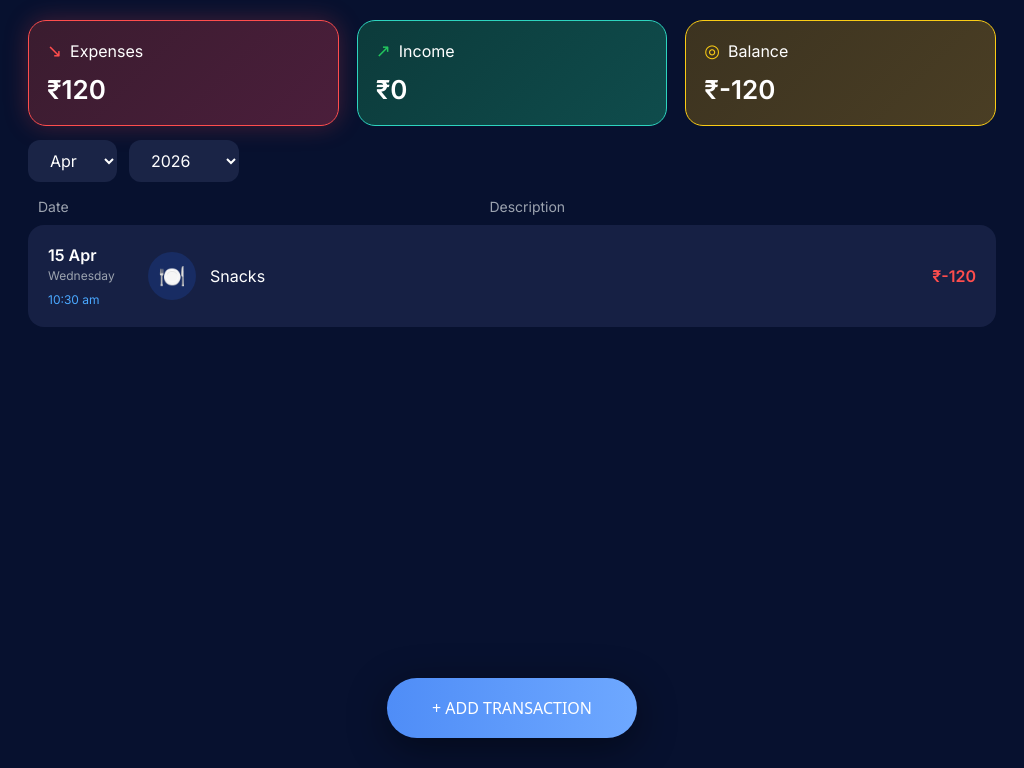
it: Records transaction flow › opens the delete confirmation and removes a transaction when confirmed
Expected: the text "Snacks" is shown, [210, 264, 265, 288]
Click the text "Snacks" at (512, 276), box [28, 225, 996, 327]
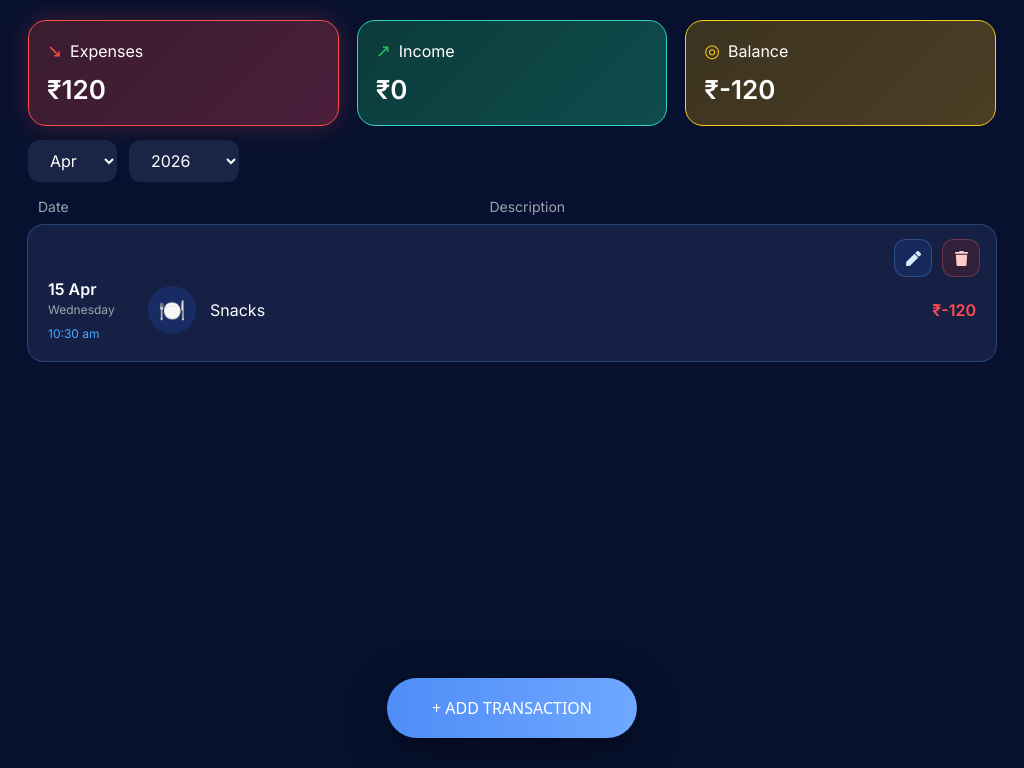
Click the button titled "Delete" at (961, 258), box [942, 239, 980, 277]
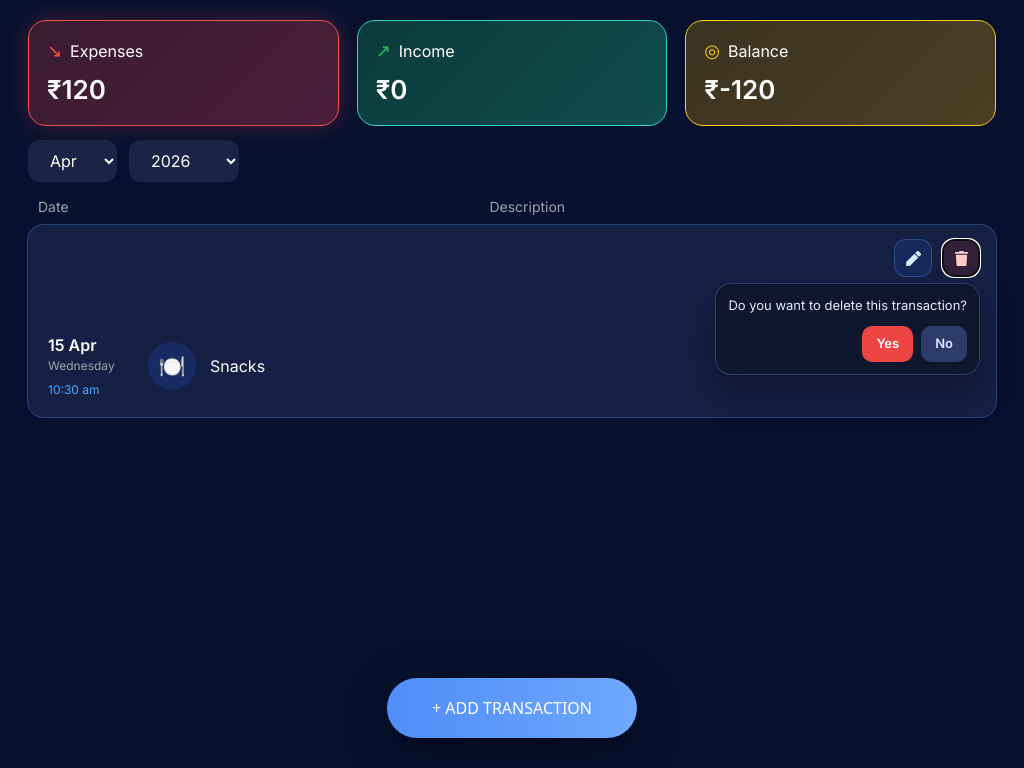
Now the text "Do you want to delete this transaction?" is shown, box [728, 296, 967, 314]
Click the button "Yes" at (888, 344), box [862, 326, 913, 362]
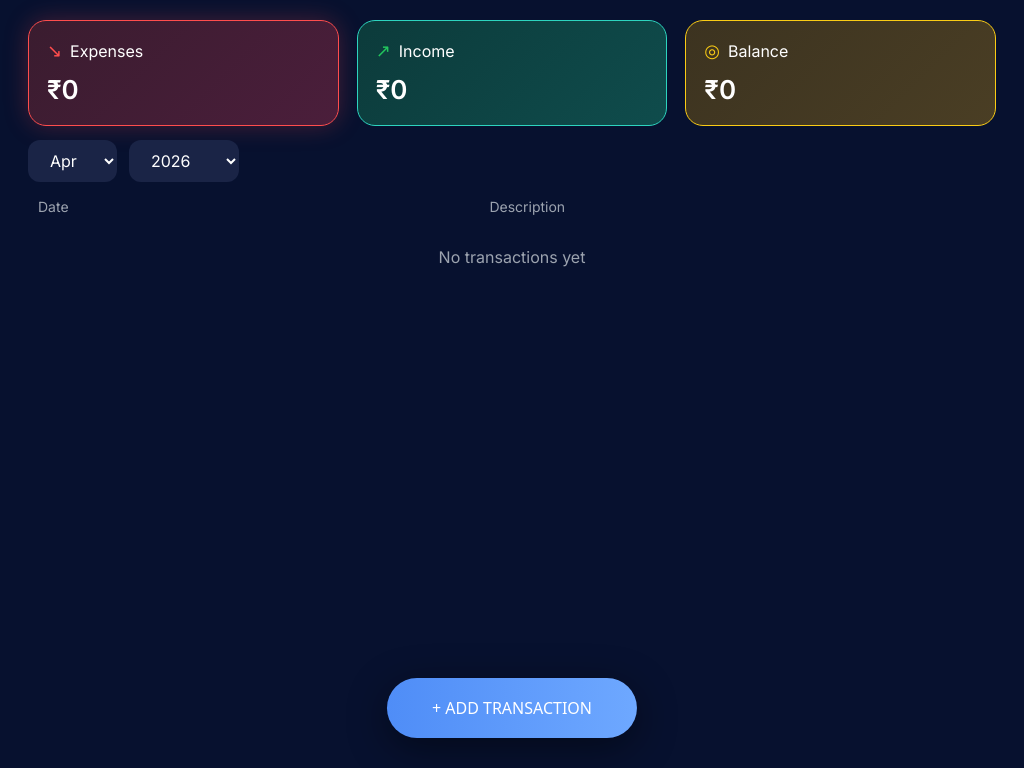
Now the text "Snacks" is gone
